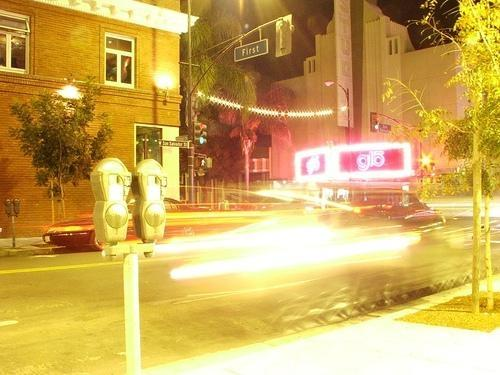car: (318, 185, 446, 247), (42, 204, 140, 252)
